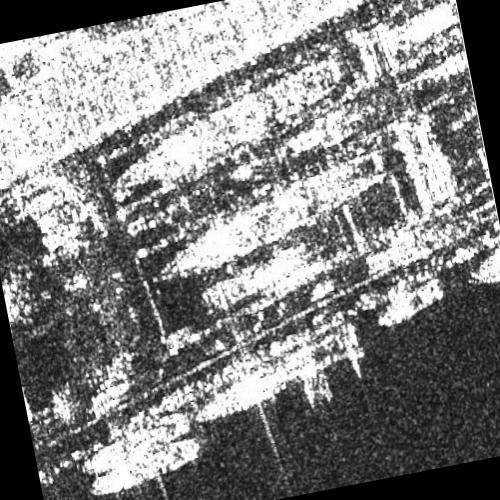ship: (110, 53, 349, 191), (153, 144, 389, 281), (192, 319, 368, 427), (78, 409, 194, 478), (90, 437, 203, 497), (376, 276, 447, 329)
